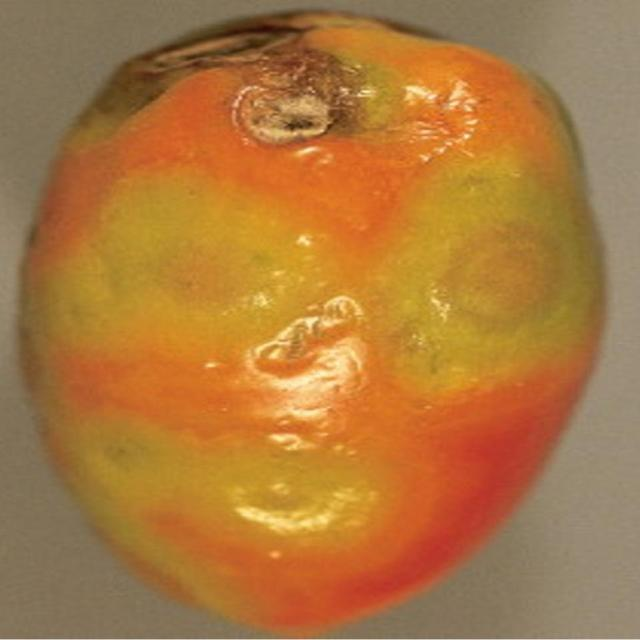Spotted wilt Virus Fruit: (93, 4, 183, 41)
